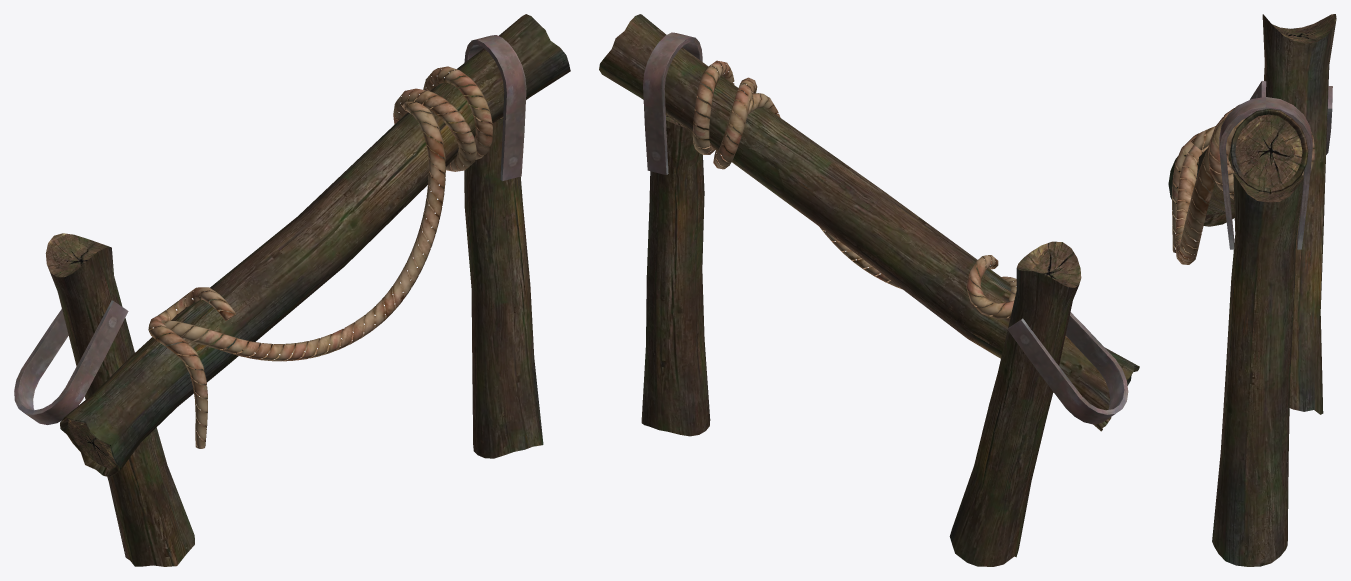
The picture shows the model from 3 angles, left to right: view 1: azimuth 30°, elevation 25°; view 2: azimuth 150°, elevation 25°; view 3: azimuth 270°, elevation 25°; orthographic projection. The views are drawn at different scales.
Parts seen in each view (by area): view 1: SM_Village_Hitching_Post_v2_LOD0; view 2: SM_Village_Hitching_Post_v2_LOD0; view 3: SM_Village_Hitching_Post_v2_LOD0.
Part boxes in pixels (x1,y1,x2,y2): SM_Village_Hitching_Post_v2_LOD0: (14, 14, 570, 566); SM_Village_Hitching_Post_v2_LOD0: (599, 14, 1139, 566); SM_Village_Hitching_Post_v2_LOD0: (1168, 14, 1336, 566).
Size of the model in its own units: 2.12 by 1.73 by 0.5214.
3 materials, 3 textured.
